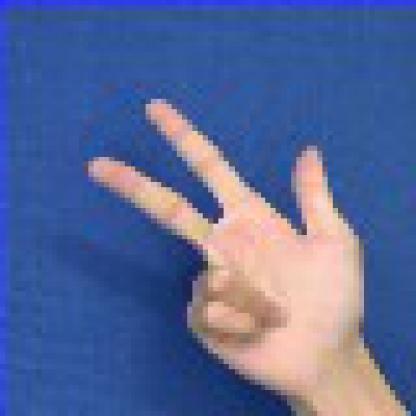eight: (73, 78, 411, 411)
